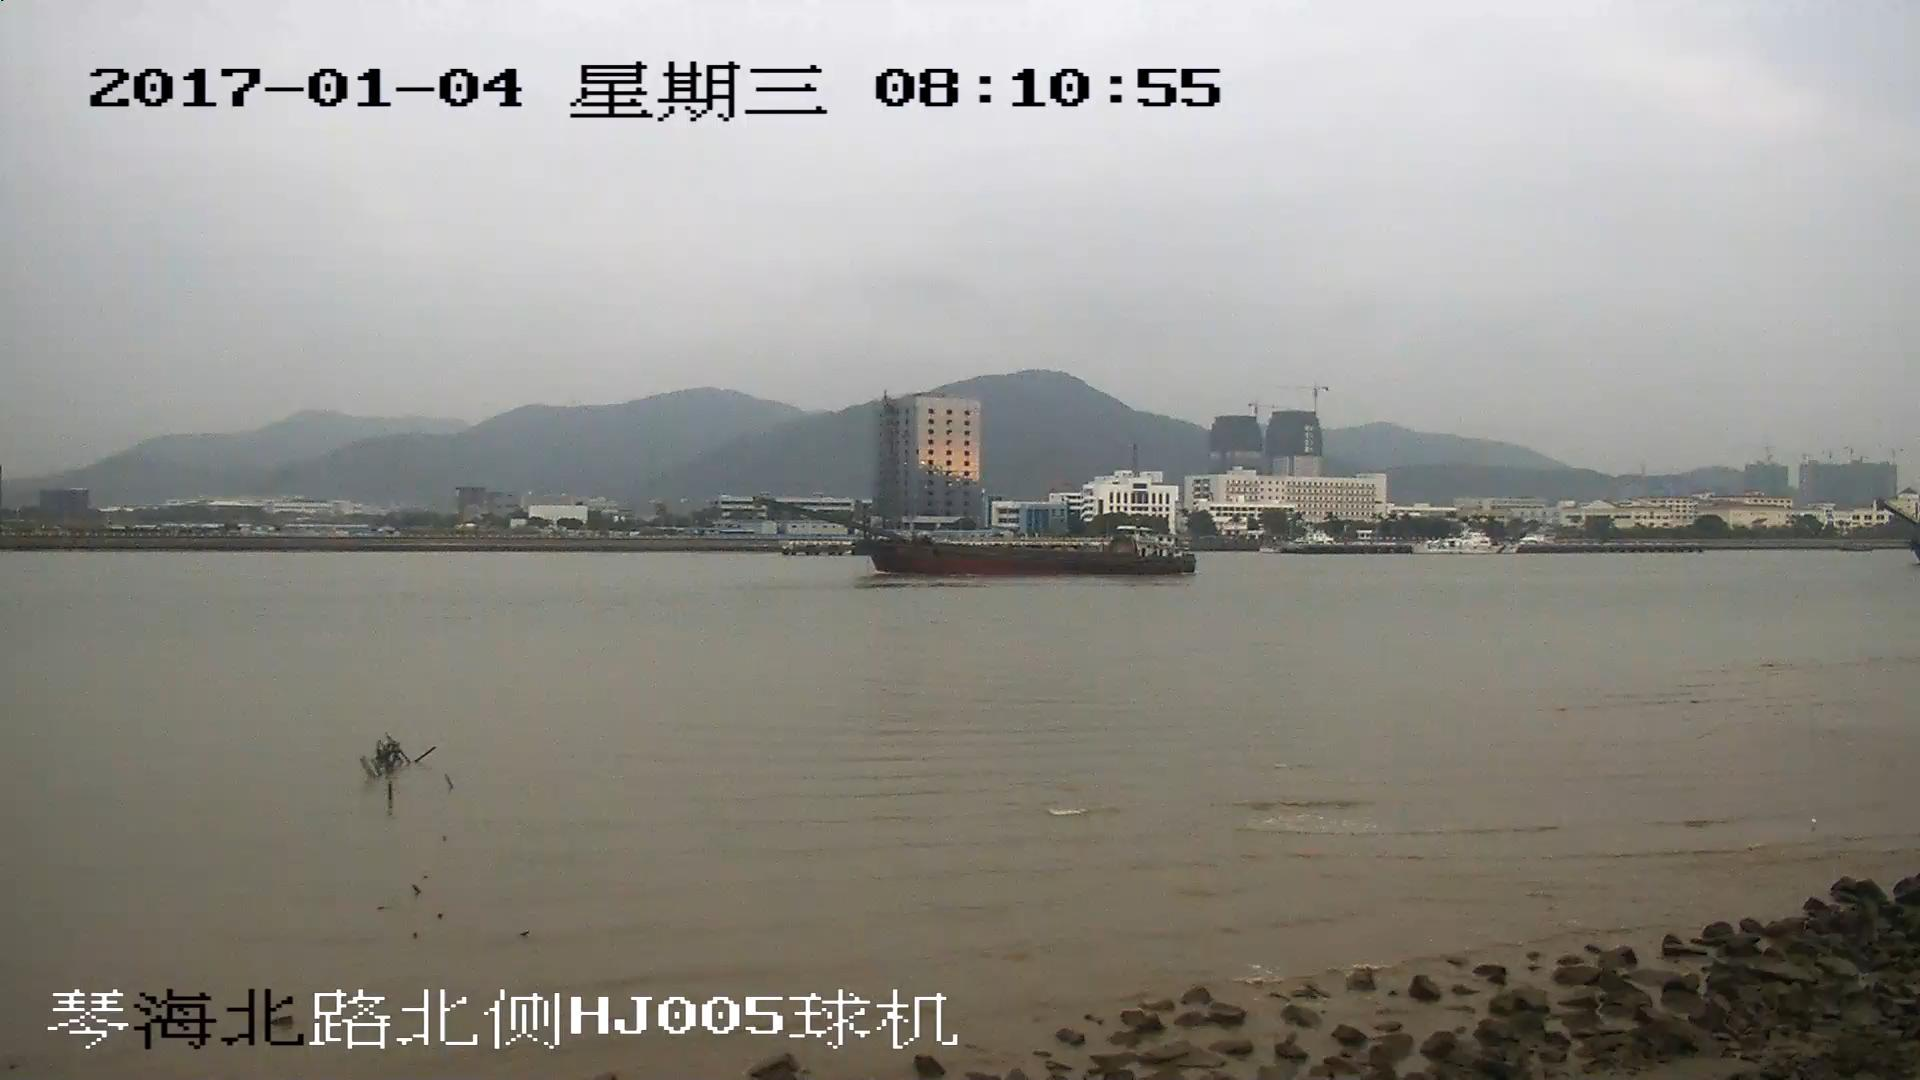Ship: (758, 498, 1197, 574)
